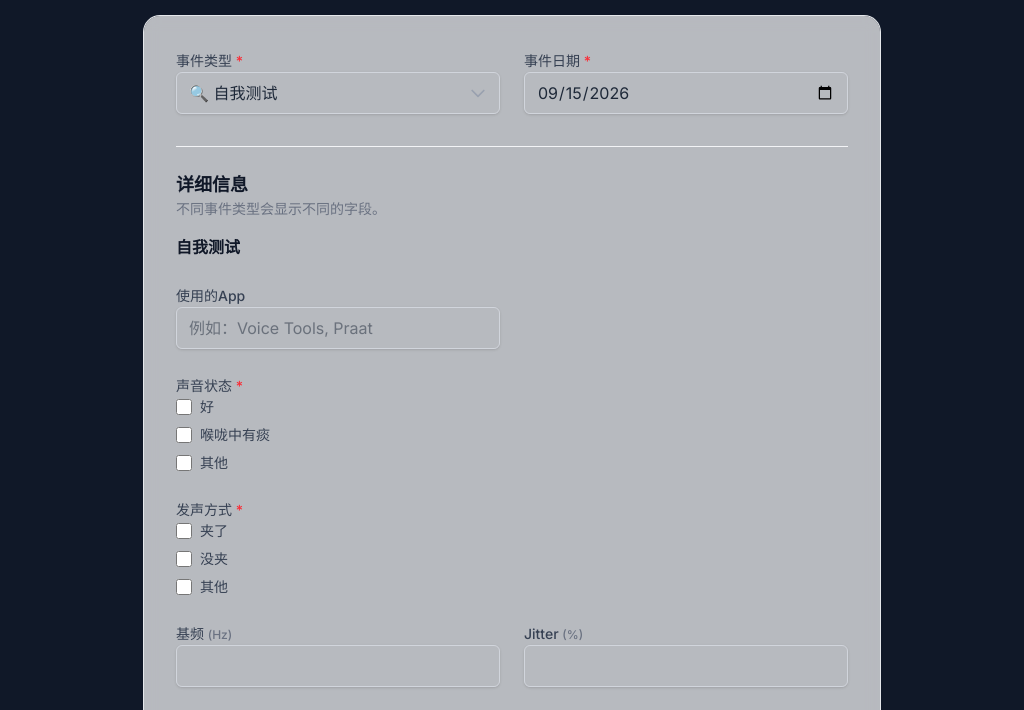
Test: 失败后删除自测必选项，重试不能绕过校验
Step 1. Click the checkbox labelled "好" → coordinates (184, 407), box [176, 399, 192, 415]
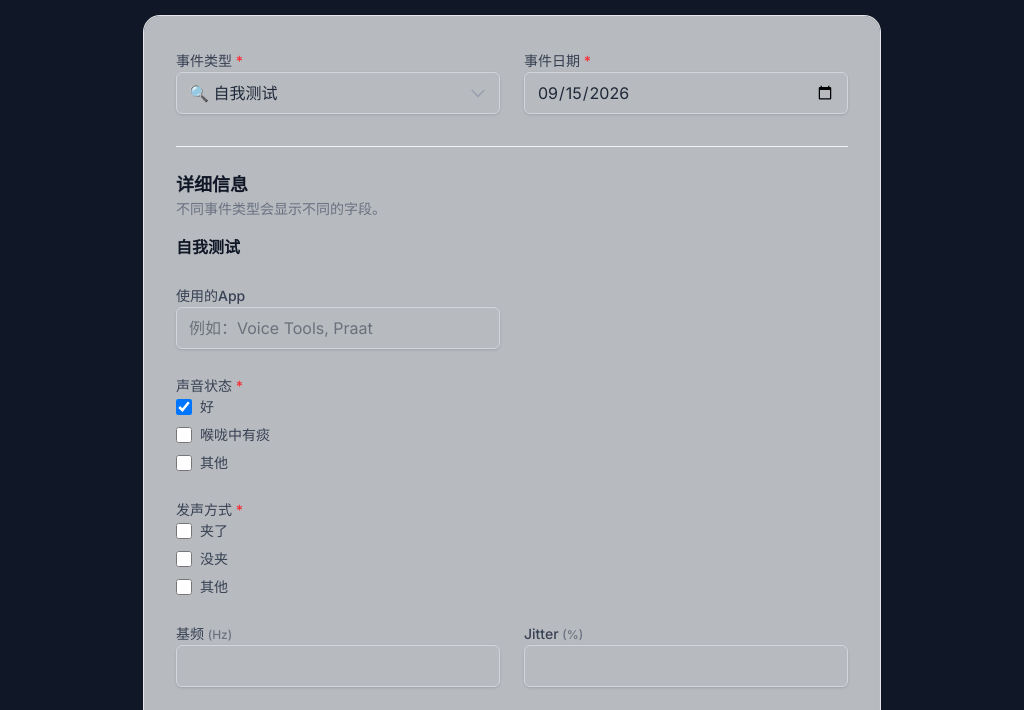
Step 2. Click the checkbox labelled "没夹" → coordinates (184, 559), box [176, 551, 192, 567]
(page scrolled)
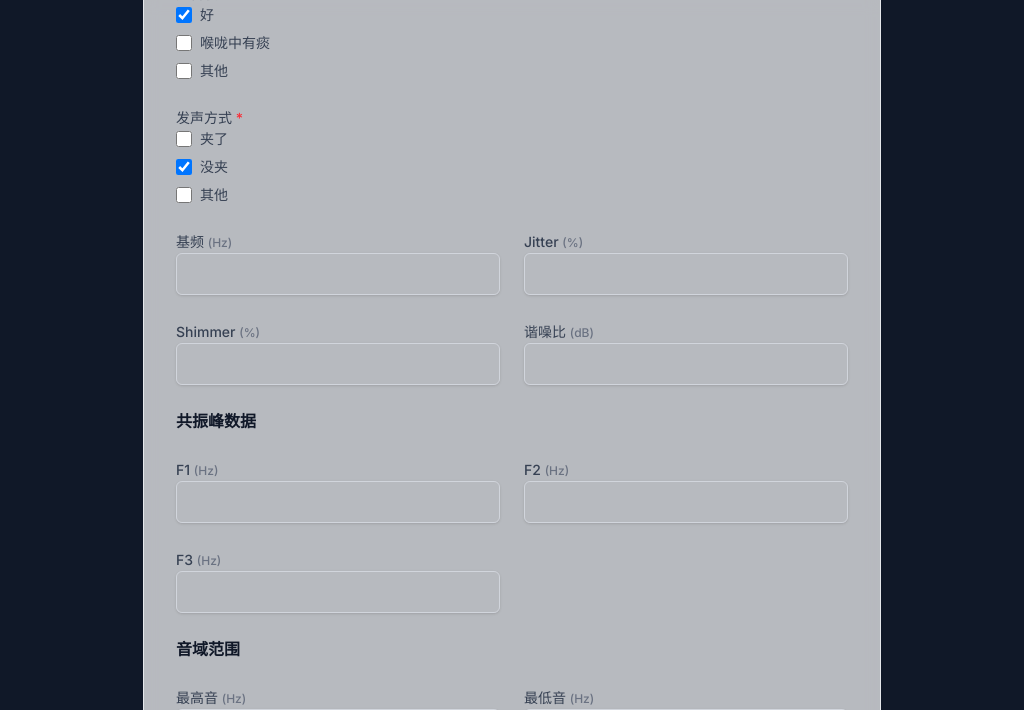
Step 3. Submit the form labelled "事件类型"
Step 4. Click the checkbox labelled "好" → coordinates (184, 15), box [176, 7, 192, 23]
(page scrolled)
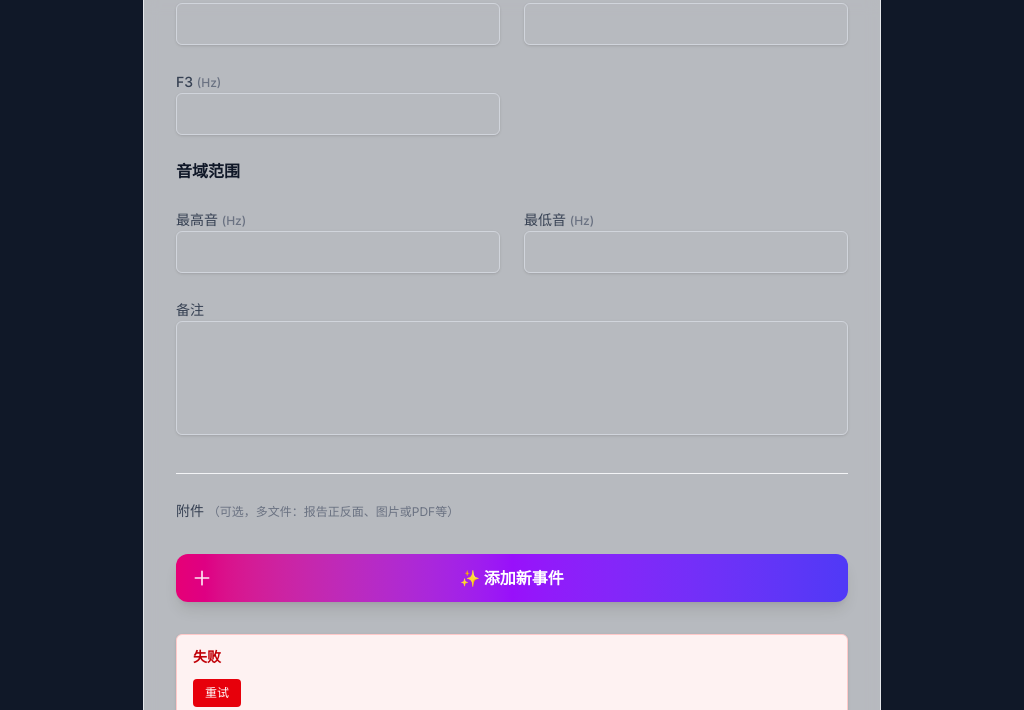
Step 5. Click the button "重试" → coordinates (217, 693), box [193, 679, 241, 707]
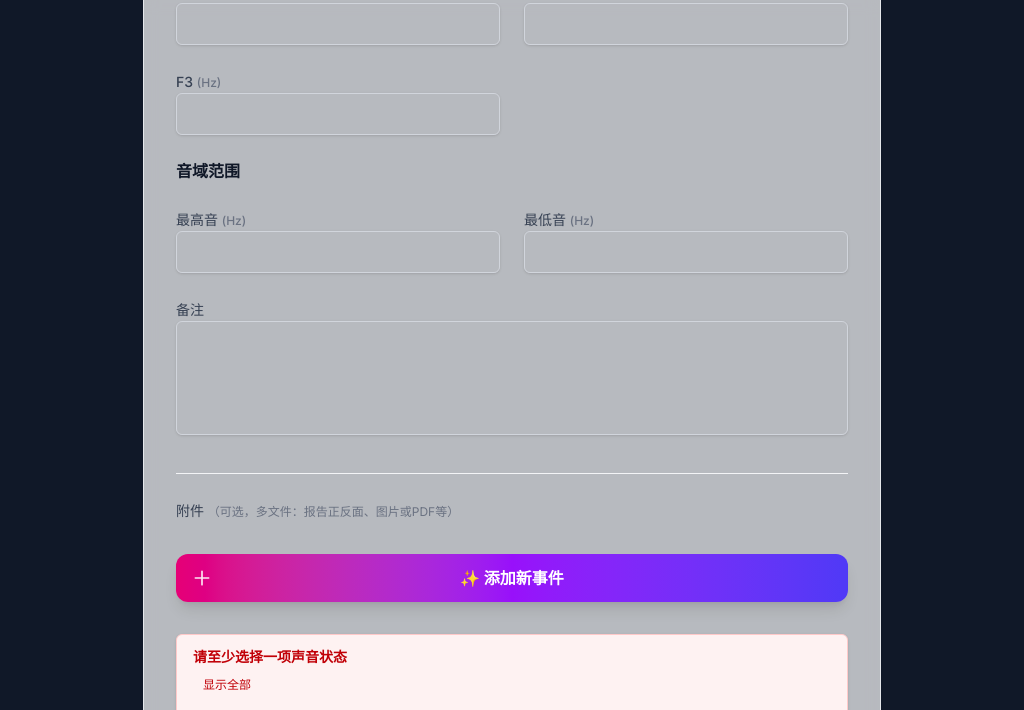
Check: the message shows "请至少选择一项声音状态", box [193, 648, 347, 665]
